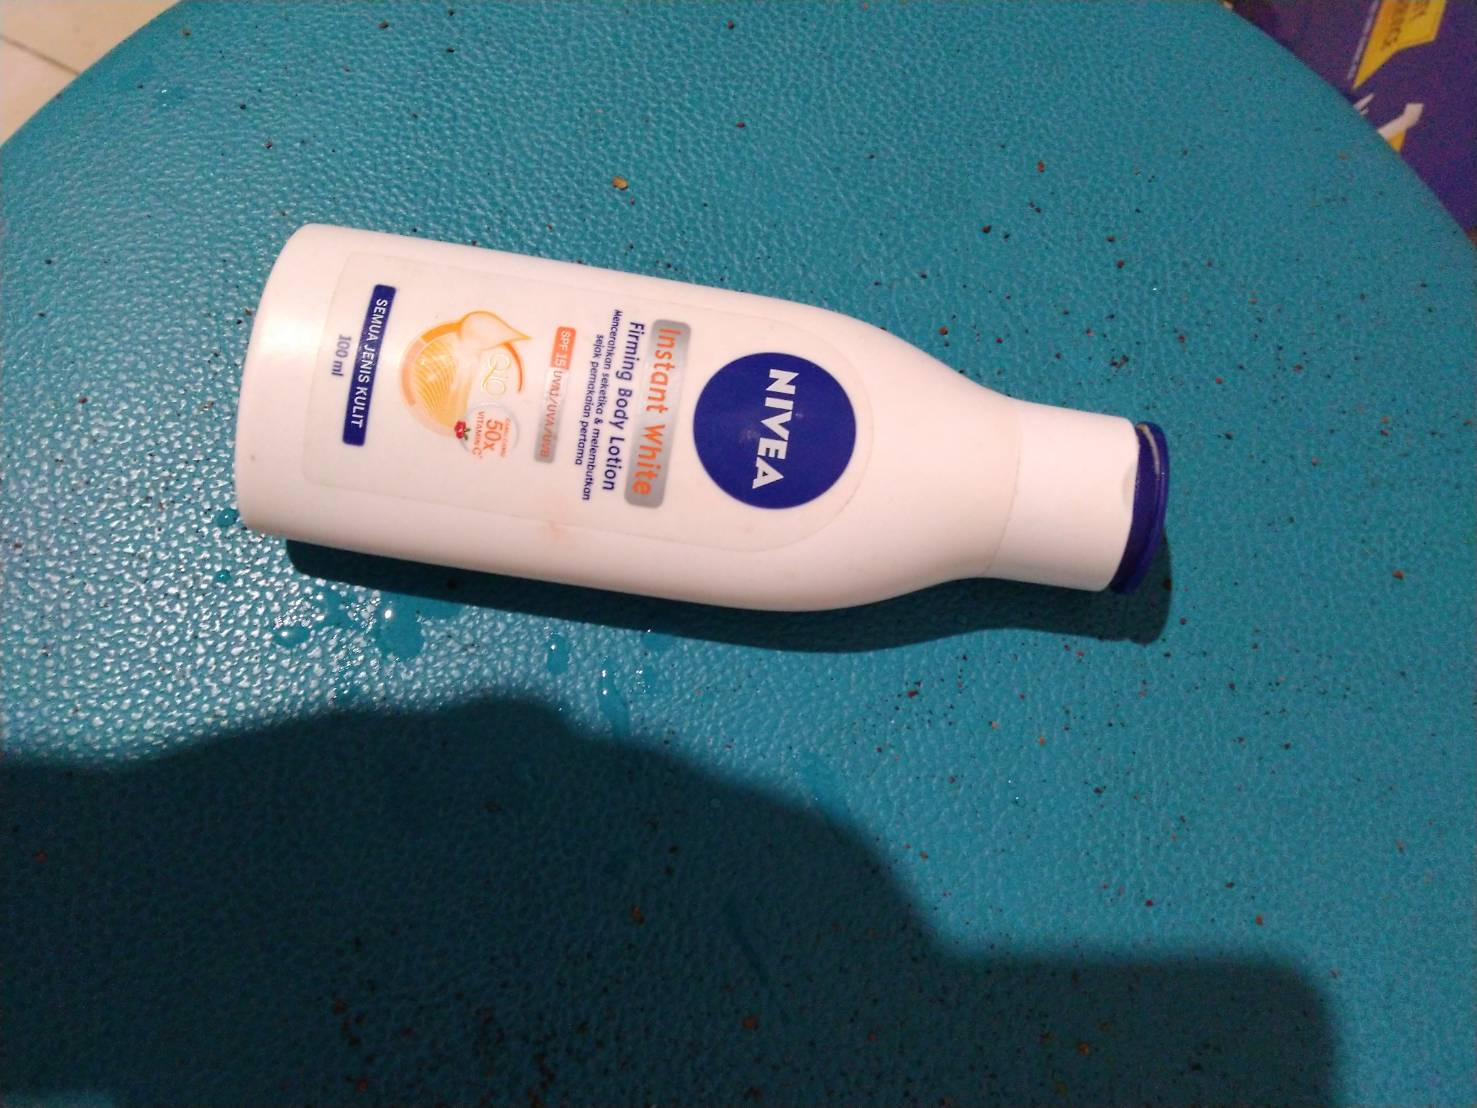HDPE: (232, 222, 1174, 620)
